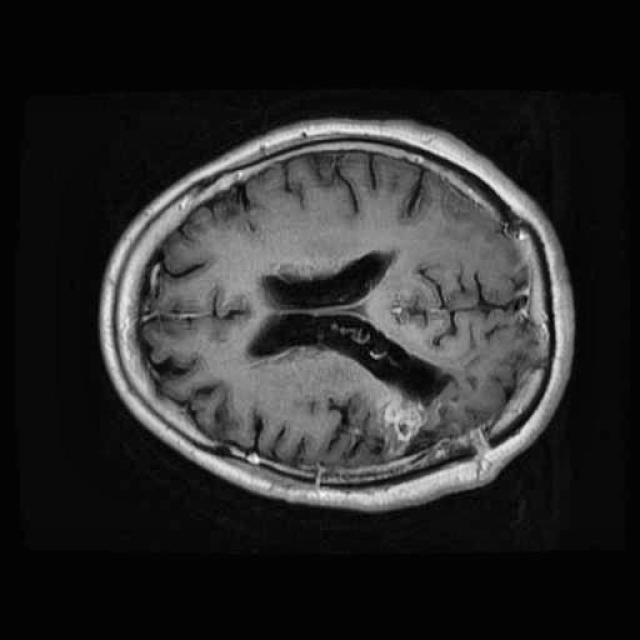Tumor: (368, 370, 434, 468)
